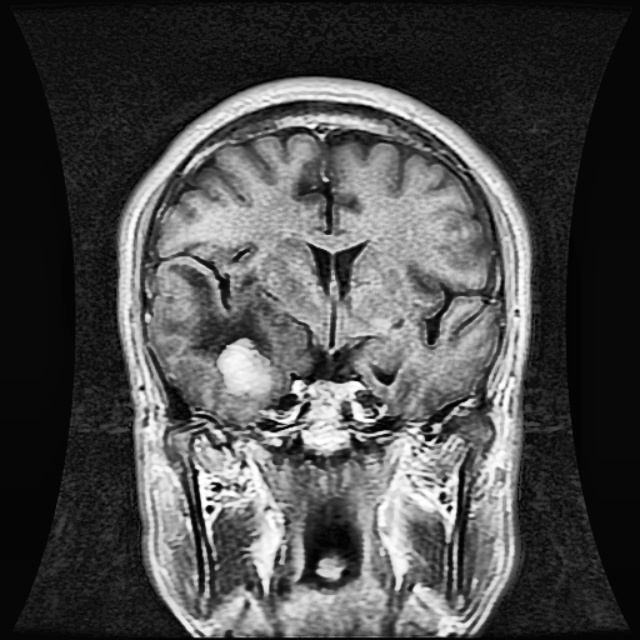Glioma: (217, 334, 277, 393)
